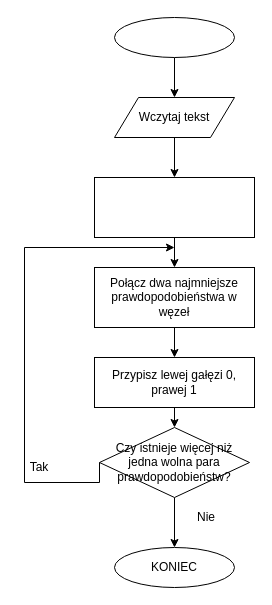
Image size: 272x605. Some labels were removed from this diagram. Each missing label, with the centre of its shape:
Policz prawdopodobieństwo wystąpienia danego znaku: point 174,207
START: point 174,37
